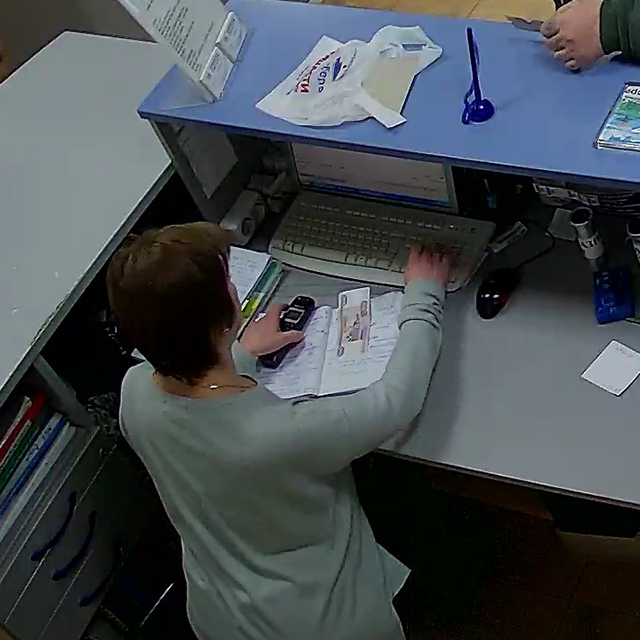banknotes: (337, 287, 370, 356)
